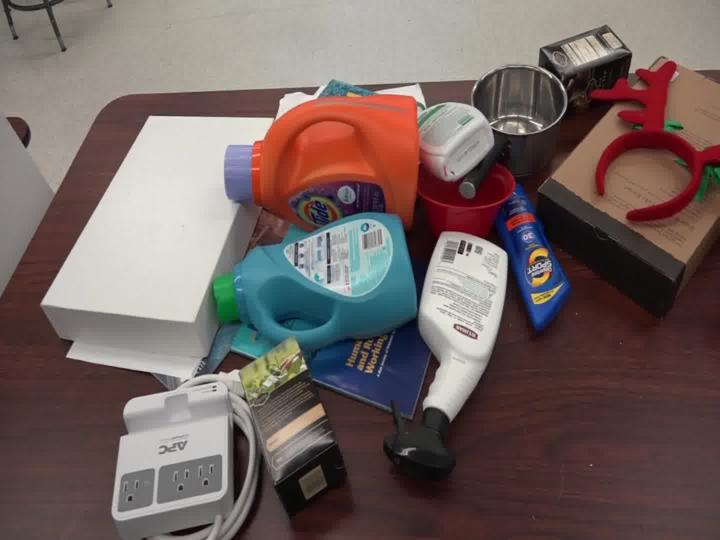downy: (196, 198, 421, 349)
